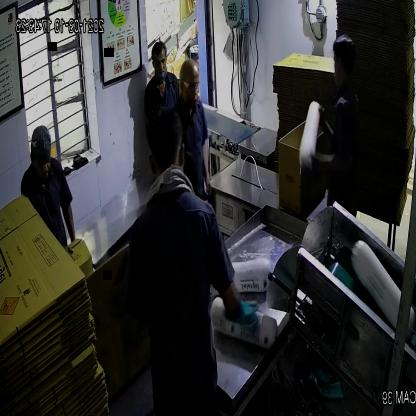glove: (226, 288, 266, 342)
no_glove: (195, 130, 221, 202), (300, 149, 360, 178), (60, 186, 83, 259)
